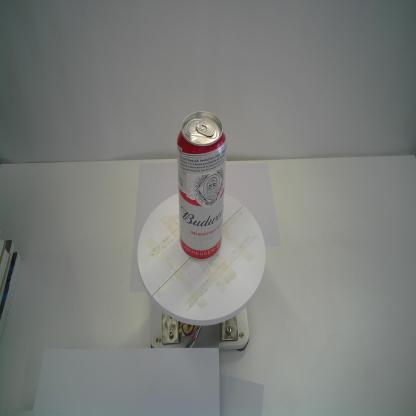Alcohol: (176, 110, 227, 260)
